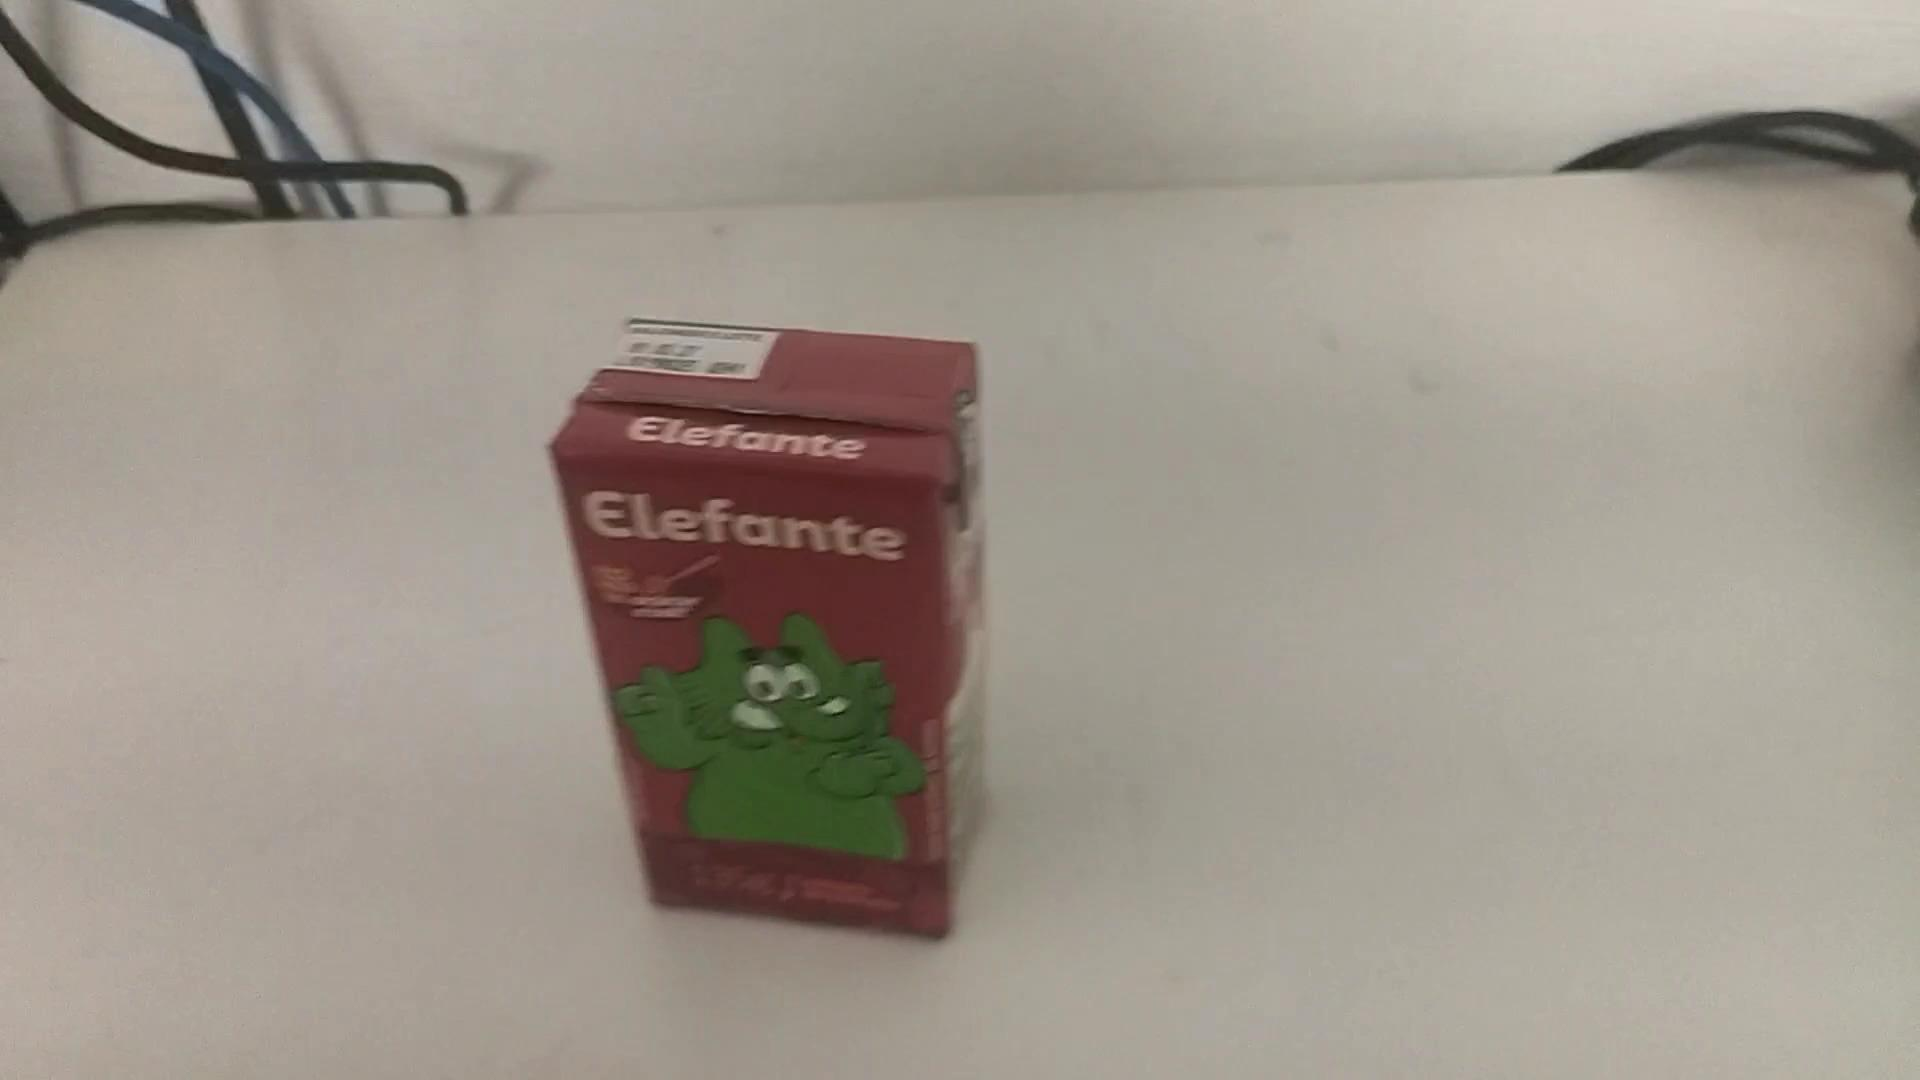tomate: (541, 261, 1017, 955)
